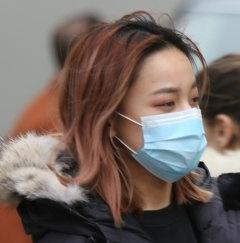OK: (118, 74, 206, 182)
